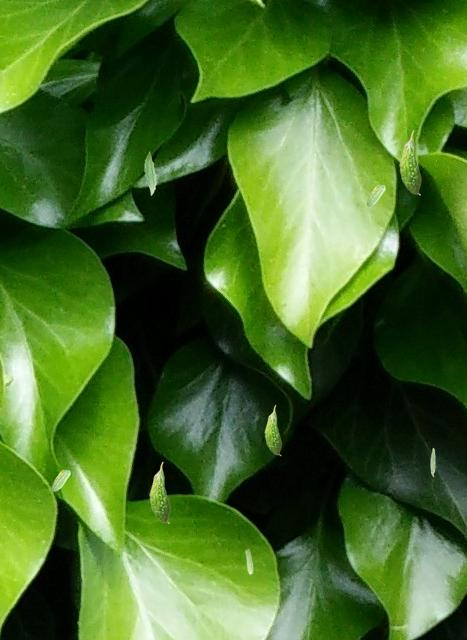ampalaya: (399, 130, 421, 195), (149, 461, 170, 524), (264, 404, 282, 456), (144, 151, 156, 196), (51, 469, 70, 492), (366, 184, 385, 207), (244, 548, 253, 574), (429, 447, 435, 477)
